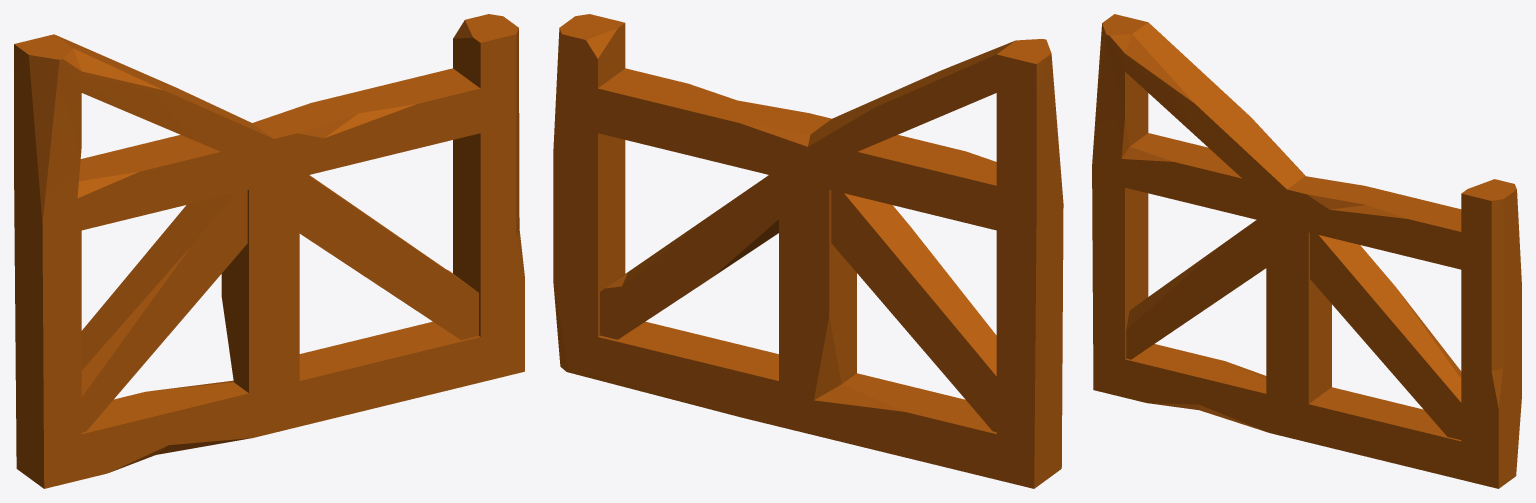
File: Gate_Door_Left.001_3.fbx
3 views of the same model, side by side, from view 1: azimuth 30°, elevation 25°; view 2: azimuth 150°, elevation 25°; view 3: azimuth 330°, elevation 25° (orthographic). The views are drawn at different scales.
Parts seen in each view (by area): view 1: Gate_Door_Left.001_3; view 2: Gate_Door_Left.001_3; view 3: Gate_Door_Left.001_3.
Boxes of the visible parts, x1,y1,x2,y2 form: Gate_Door_Left.001_3: (14,14,524,488); Gate_Door_Left.001_3: (553,14,1063,488); Gate_Door_Left.001_3: (1092,14,1521,488).
Bounding box in the file's own units: 41.79 × 35.14 × 4.13.
